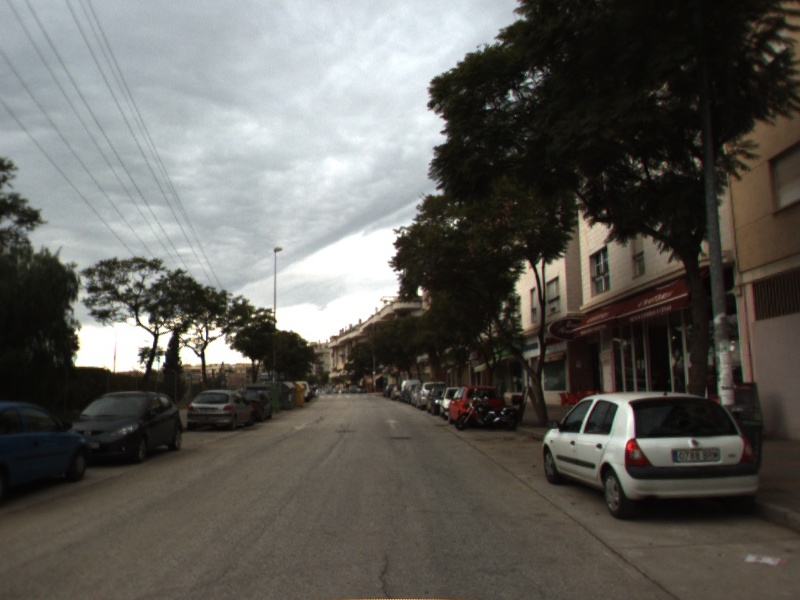STRAIGHT: (382, 416, 401, 431)
